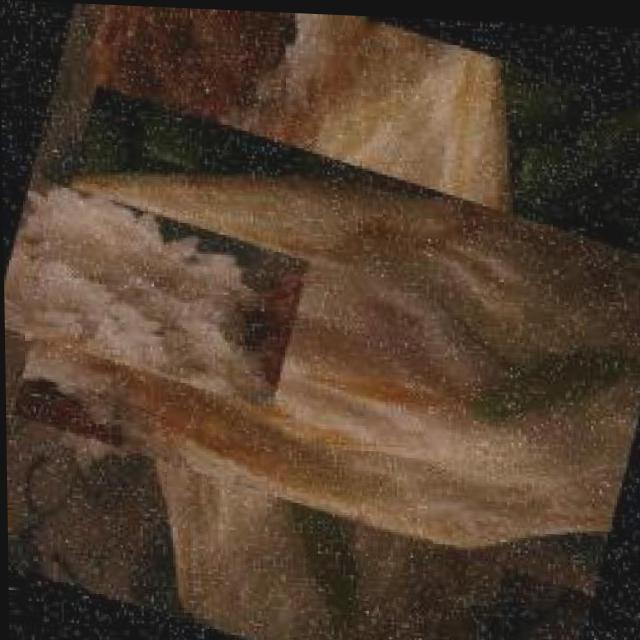fried_eggs: (52, 34, 640, 640)
rice: (1, 123, 275, 445)
